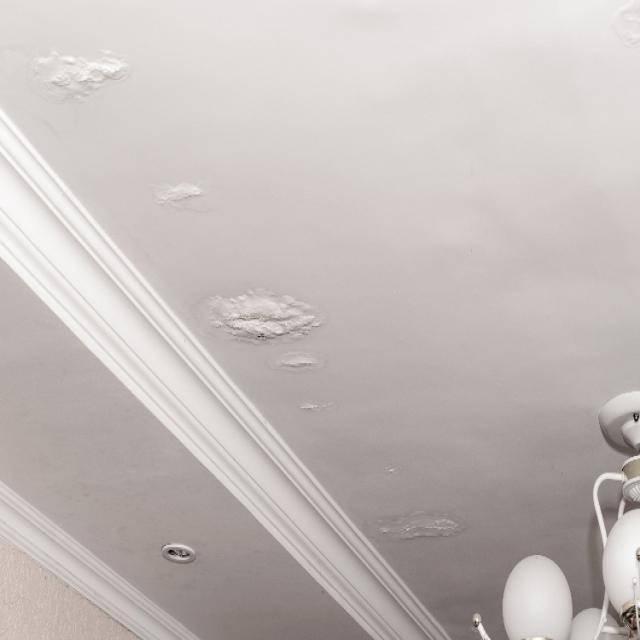tile: (206, 284, 328, 341), (33, 48, 128, 103), (380, 511, 466, 542), (161, 181, 210, 202), (272, 352, 321, 369), (360, 294, 390, 314), (298, 398, 338, 412), (390, 464, 398, 478)
